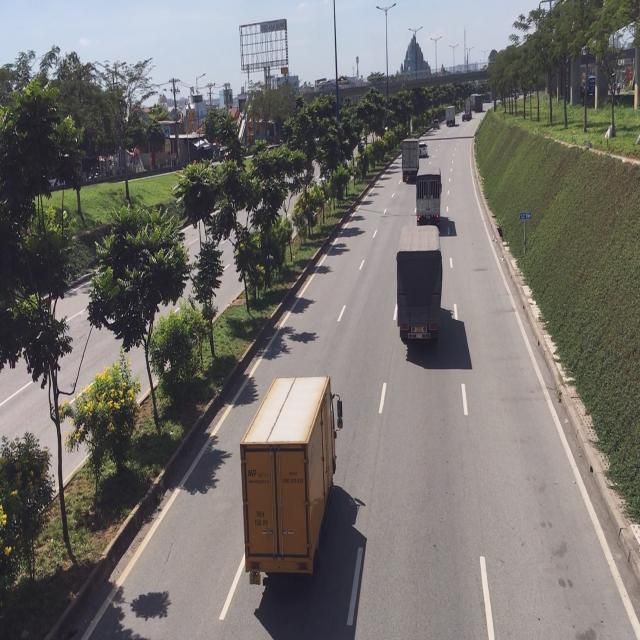truck: (238, 372, 342, 590), (397, 244, 446, 350), (416, 163, 442, 225), (401, 136, 419, 180)
